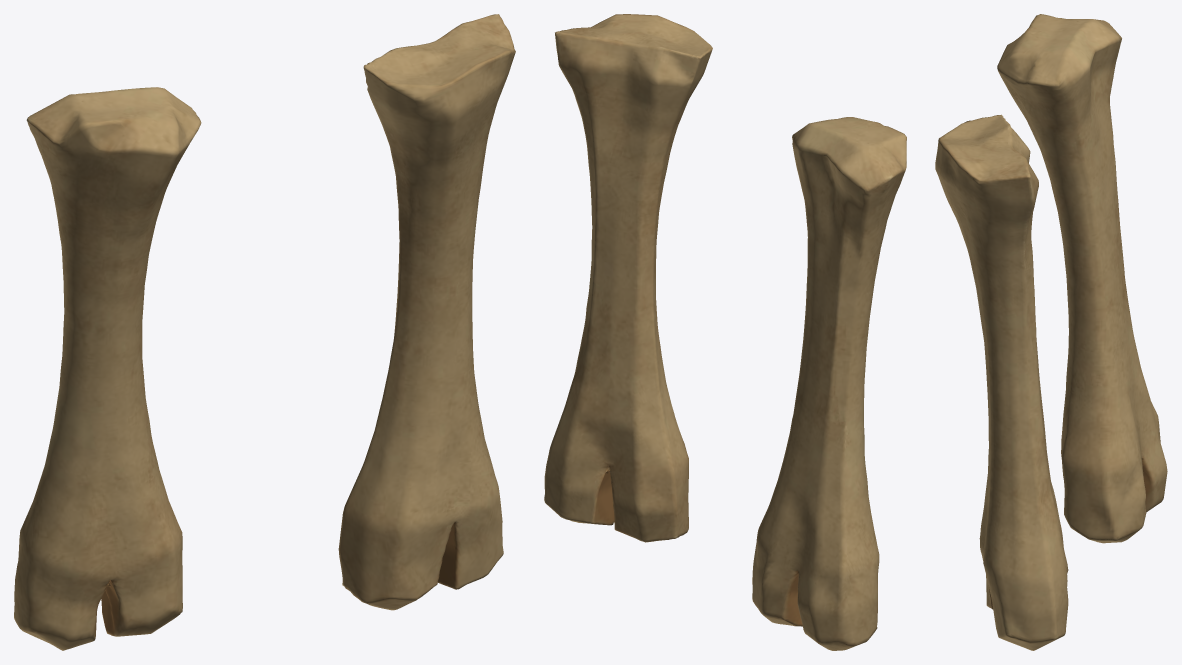
File: Fused third fourth metacarpals.glb
3 views of the same model, side by side, from view 1: azimuth 30°, elevation 25°; view 2: azimuth 150°, elevation 25°; view 3: azimuth 270°, elevation 25° (orthographic). The views are drawn at different scales.
Visible parts, largest first — view 1: ZBrush_defualt_group.003; view 2: ZBrush_defualt_group.003; view 3: ZBrush_defualt_group.003.
Boxes of the visible parts, box(x1,y1,x2,y2) form: ZBrush_defualt_group.003: box(14, 14, 515, 650); ZBrush_defualt_group.003: box(544, 14, 906, 650); ZBrush_defualt_group.003: box(935, 14, 1167, 650).
Size of the model in its own units: 141 by 182 by 75.45.
Materials: 1 (1 with a texture image).
